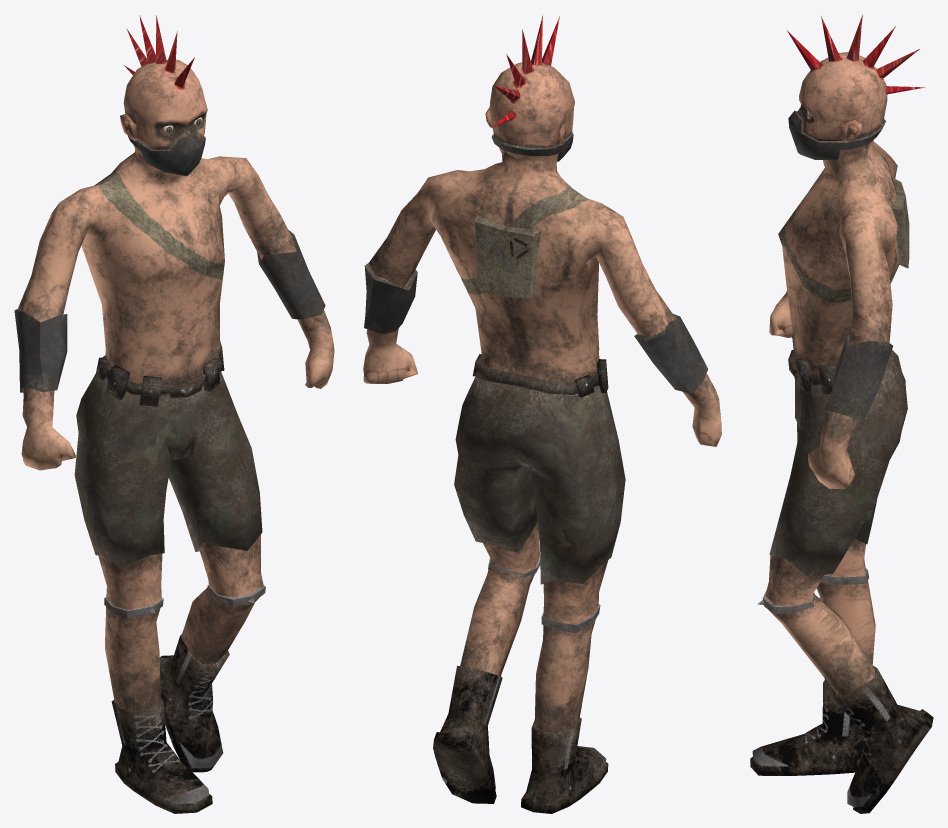
Rendered from Anim_andar_npc2.0029.obj.
3 views of the same model, side by side, from view 1: azimuth 30°, elevation 25°; view 2: azimuth 150°, elevation 25°; view 3: azimuth 270°, elevation 25° (orthographic). The views are drawn at different scales.
Parts seen in each view (by area): view 1: Anim_andar_npc2; view 2: Anim_andar_npc2; view 3: Anim_andar_npc2.
Boxes of the visible parts, bbox=[...] form: Anim_andar_npc2: bbox=[14, 15, 334, 813]; Anim_andar_npc2: bbox=[363, 15, 721, 813]; Anim_andar_npc2: bbox=[750, 15, 933, 813].
Bounding box in the file's own units: 4.68 × 10.38 × 2.22.
